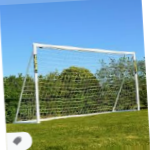goals: (14, 41, 143, 124)
